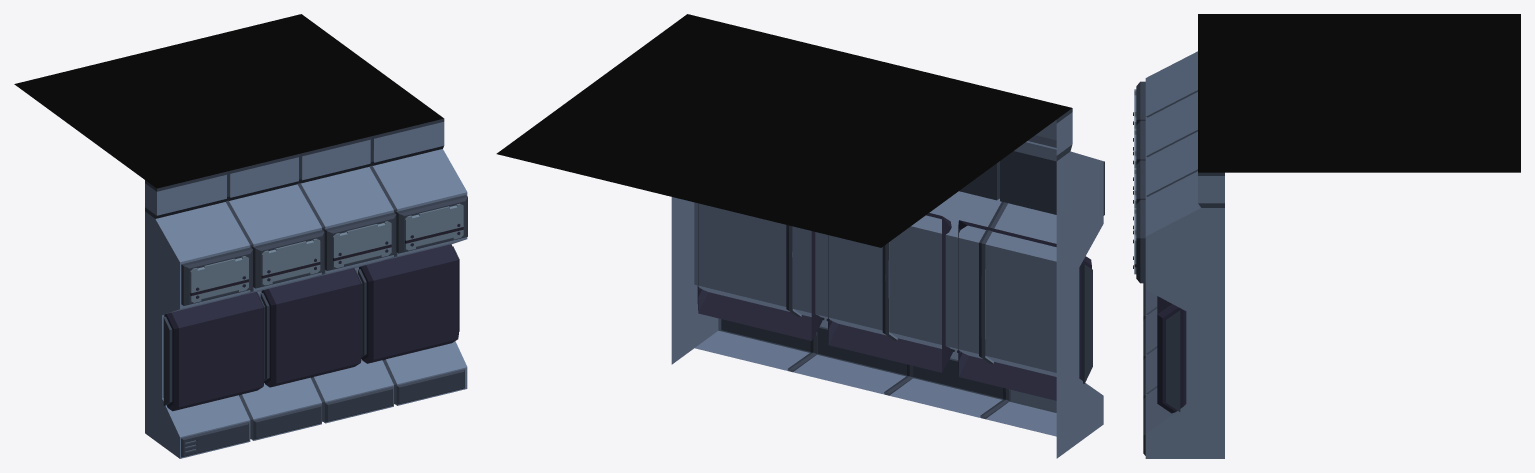
Rendered from WallA.fbx.
3 renders of one model, left to right at view 1: azimuth 30°, elevation 25°; view 2: azimuth 150°, elevation 25°; view 3: azimuth 270°, elevation 25°, orthographic. The views are drawn at different scales.
Parts seen in each view (by area): view 1: WallA; view 2: WallA; view 3: WallA.
Part boxes in pixels (left/top/right/bottom): WallA: left=14, top=14, right=467, bottom=458; WallA: left=496, top=14, right=1104, bottom=458; WallA: left=1133, top=14, right=1520, bottom=458.
Size of the model in its own units: 403 by 337 by 414.
